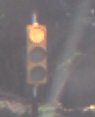Red: (23, 18, 54, 88)
